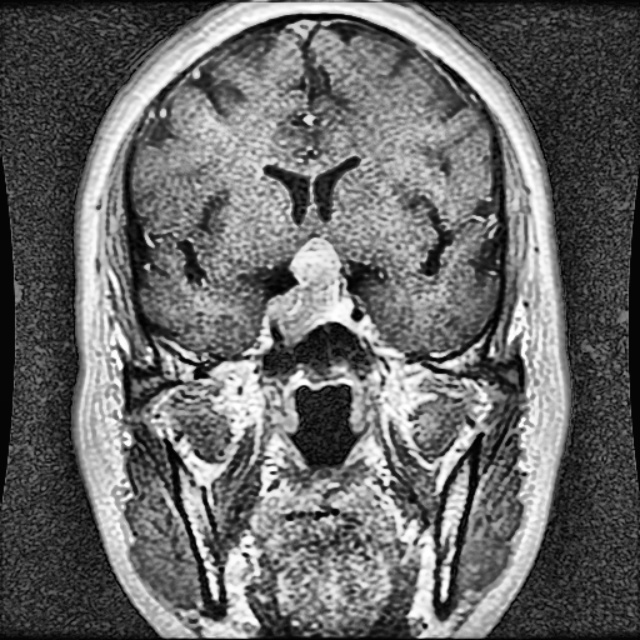Pituitary: (268, 238, 352, 343)
